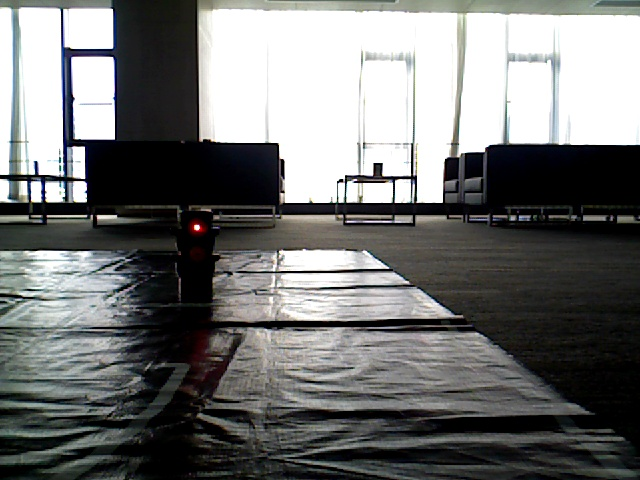red: (179, 213, 210, 293)
